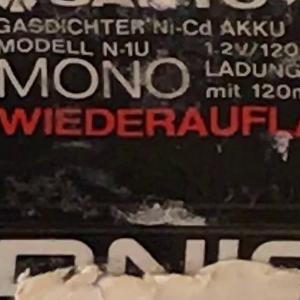NI-CD: (138, 11, 220, 38)
